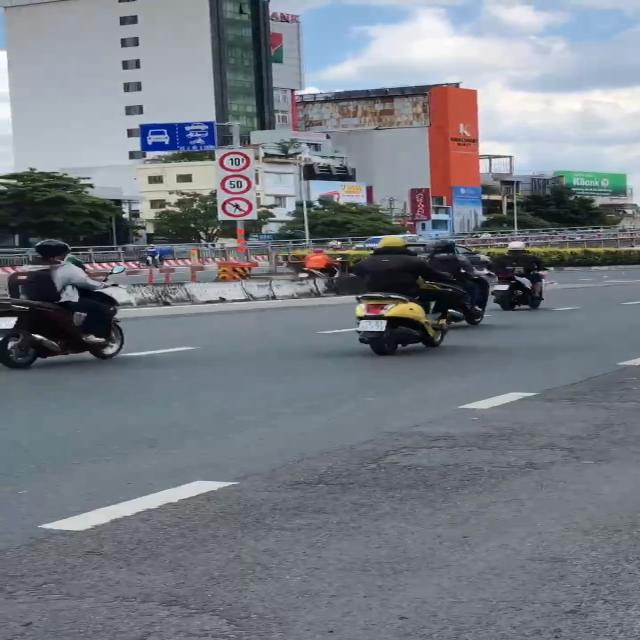Bien bao cam nguoi di bo: (218, 194, 258, 220)
Bien bao toc do toi da cho phep: (216, 172, 253, 194)
